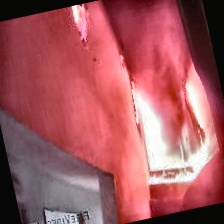fire: (125, 68, 222, 187)
